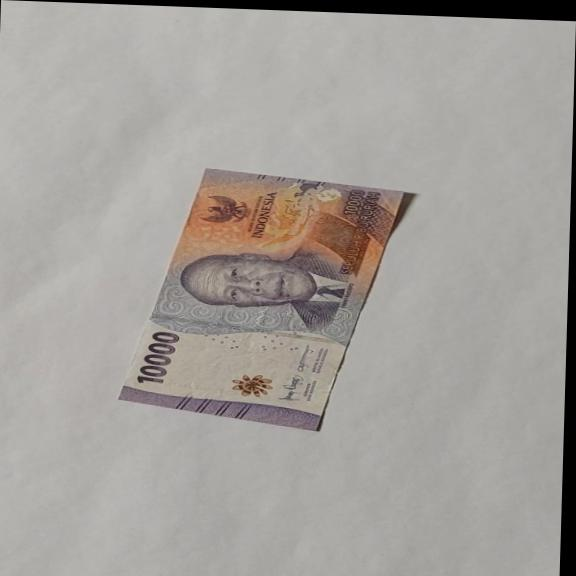Kertas: (116, 164, 416, 435), (134, 330, 181, 386)
